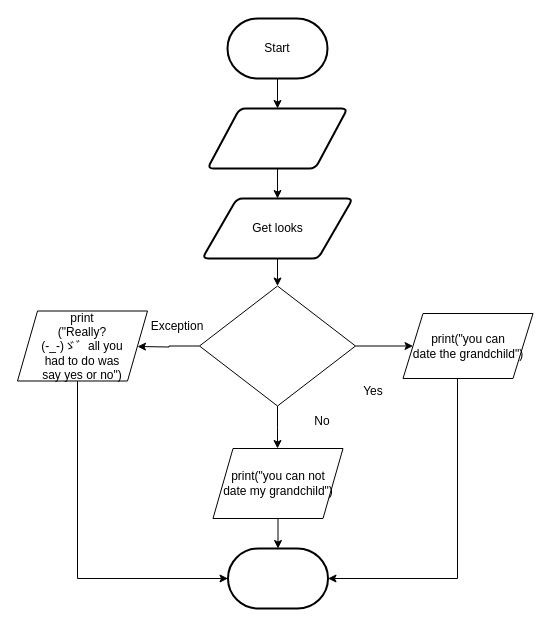
Image size: 551x626. Some labels were removed from this diagram. Here are the shapes that lost their labels. From the top down, the centre of each, then its label:
the point at 277,138: Get wealth
the point at 277,345: if the user is handsome or rich
the point at 277,578: Stop
